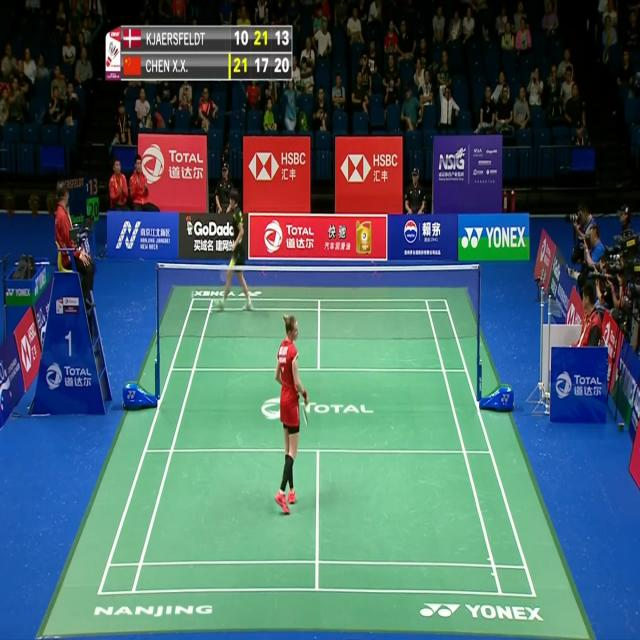Player1: (271, 310, 311, 519)
Player2: (215, 188, 256, 318)
